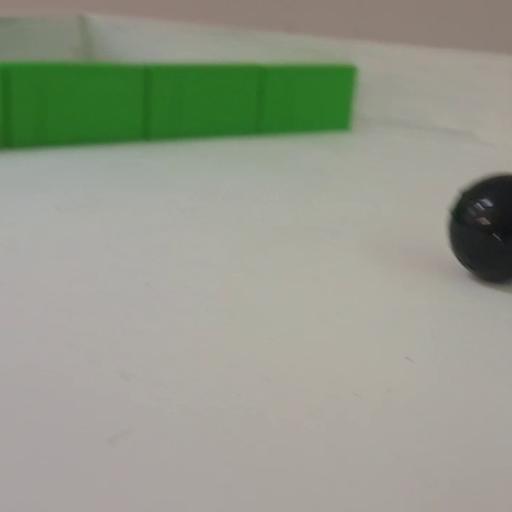dead: (450, 178, 512, 284)
